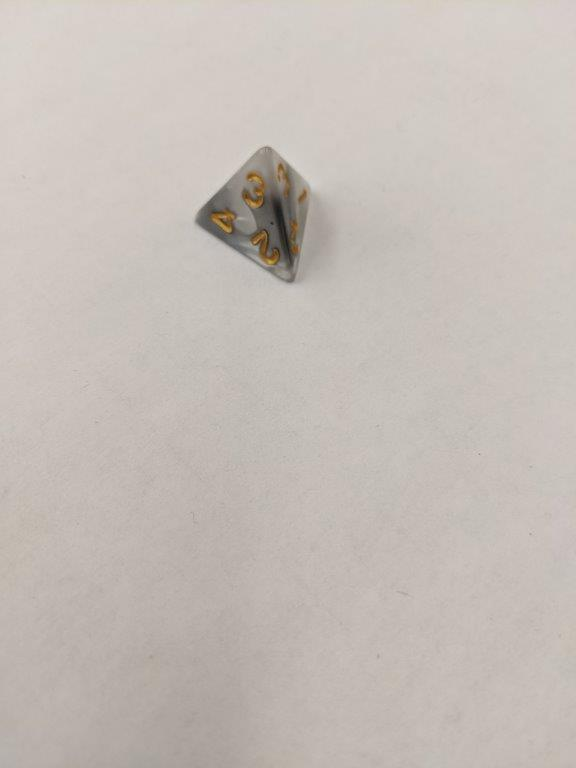d4-3: (193, 141, 312, 290)
